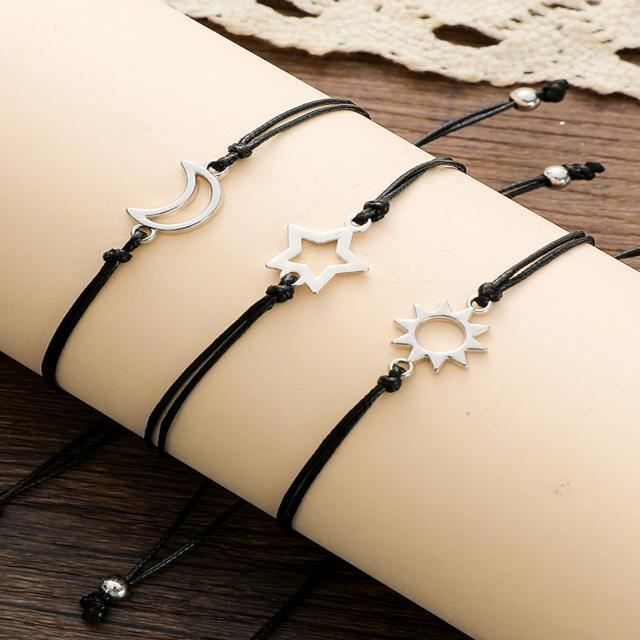bracelet: (10, 23, 640, 580)
